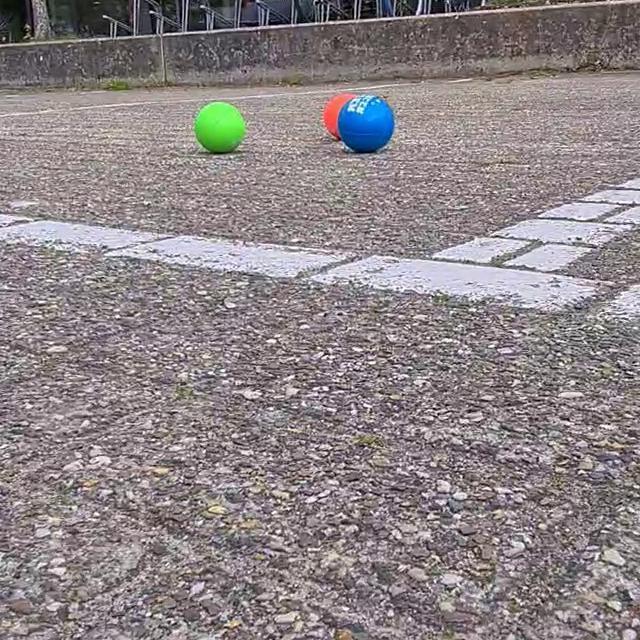ball: (338, 92, 398, 155), (189, 99, 250, 157)
